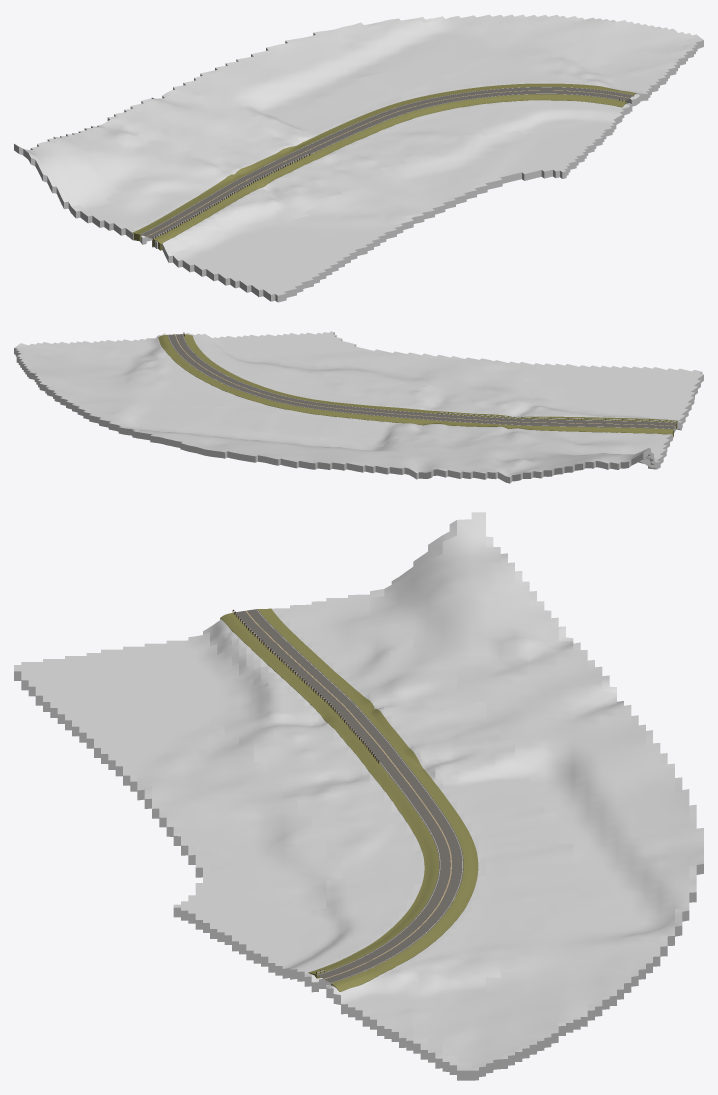
The model's file is conz_38.glb.
3 renders of one model, top to bottom at view 1: azimuth 30°, elevation 25°; view 2: azimuth 150°, elevation 25°; view 3: azimuth 270°, elevation 25°, orthographic. The views are drawn at different scales.
Visible parts, largest first — view 1: terrain38, road38, verge38R, verge38L; view 2: terrain38, road38, verge38L, verge38R, paint_yellow38, paint_white38, beam38_30320; view 3: terrain38, road38, verge38L, verge38R.
Boxes of the visible parts, left/top/right/bottom form: terrain38: left=14, top=14, right=703, bottom=302; road38: left=140, top=87, right=632, bottom=238; verge38R: left=152, top=94, right=626, bottom=250; verge38L: left=132, top=83, right=637, bottom=241; terrain38: left=14, top=331, right=703, bottom=483; road38: left=167, top=334, right=676, bottom=429; verge38L: left=158, top=335, right=673, bottom=437; verge38R: left=183, top=334, right=677, bottom=429; paint_yellow38: left=175, top=334, right=674, bottom=426; paint_white38: left=168, top=334, right=673, bottom=429; beam38_30320: left=438, top=412, right=676, bottom=421; terrain38: left=14, top=512, right=703, bottom=1080; road38: left=235, top=609, right=463, bottom=983; verge38L: left=257, top=608, right=478, bottom=991; verge38R: left=220, top=612, right=438, bottom=981.
Size of the model in its own units: 312 by 27.99 by 190.
